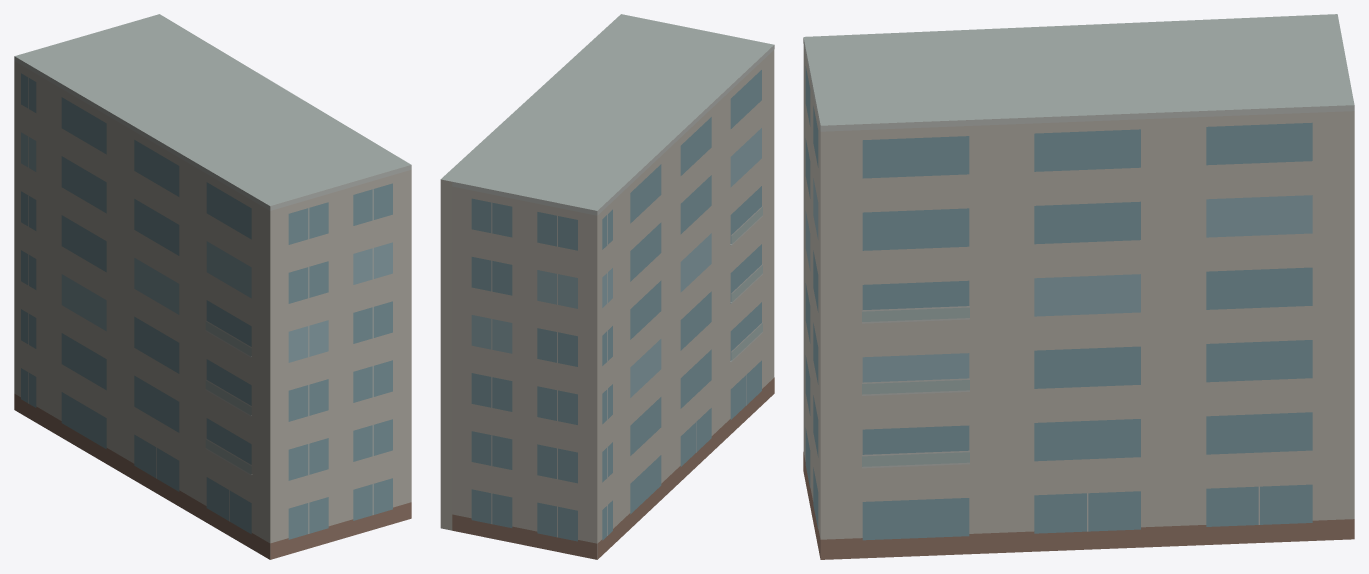
The model's file is survey-upis-32976295.glb.
3 views of the same model, side by side, from view 1: azimuth 30°, elevation 25°; view 2: azimuth 150°, elevation 25°; view 3: azimuth 270°, elevation 25° (orthographic). The views are drawn at different scales.
Parts seen in each view (by area): view 1: survey-upis-32976295.tmp; view 2: survey-upis-32976295.tmp; view 3: survey-upis-32976295.tmp.
Boxes of the visible parts, x1,y1,x2,y2 form: survey-upis-32976295.tmp: [14, 14, 411, 559]; survey-upis-32976295.tmp: [440, 14, 774, 559]; survey-upis-32976295.tmp: [803, 14, 1354, 559].
Size of the model in its own units: 9.83 by 17.8 by 20.49.
